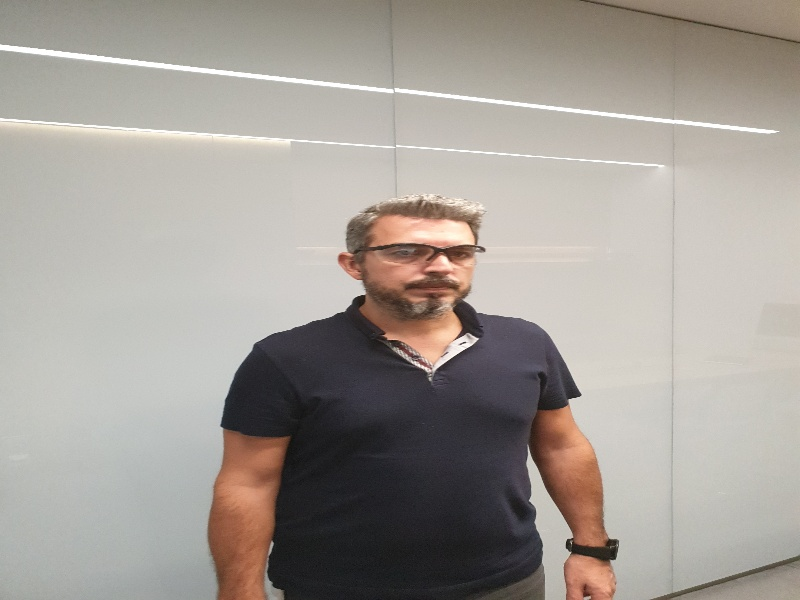Gozluk: (352, 244, 487, 265)
